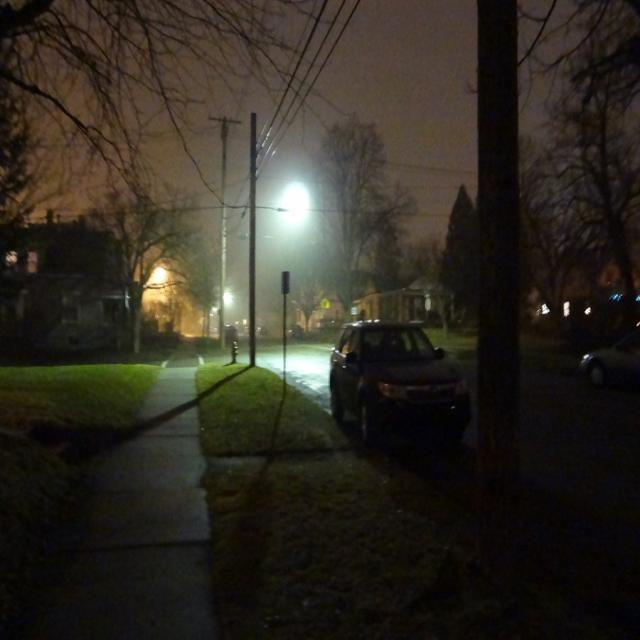Car: (329, 325, 473, 447)
